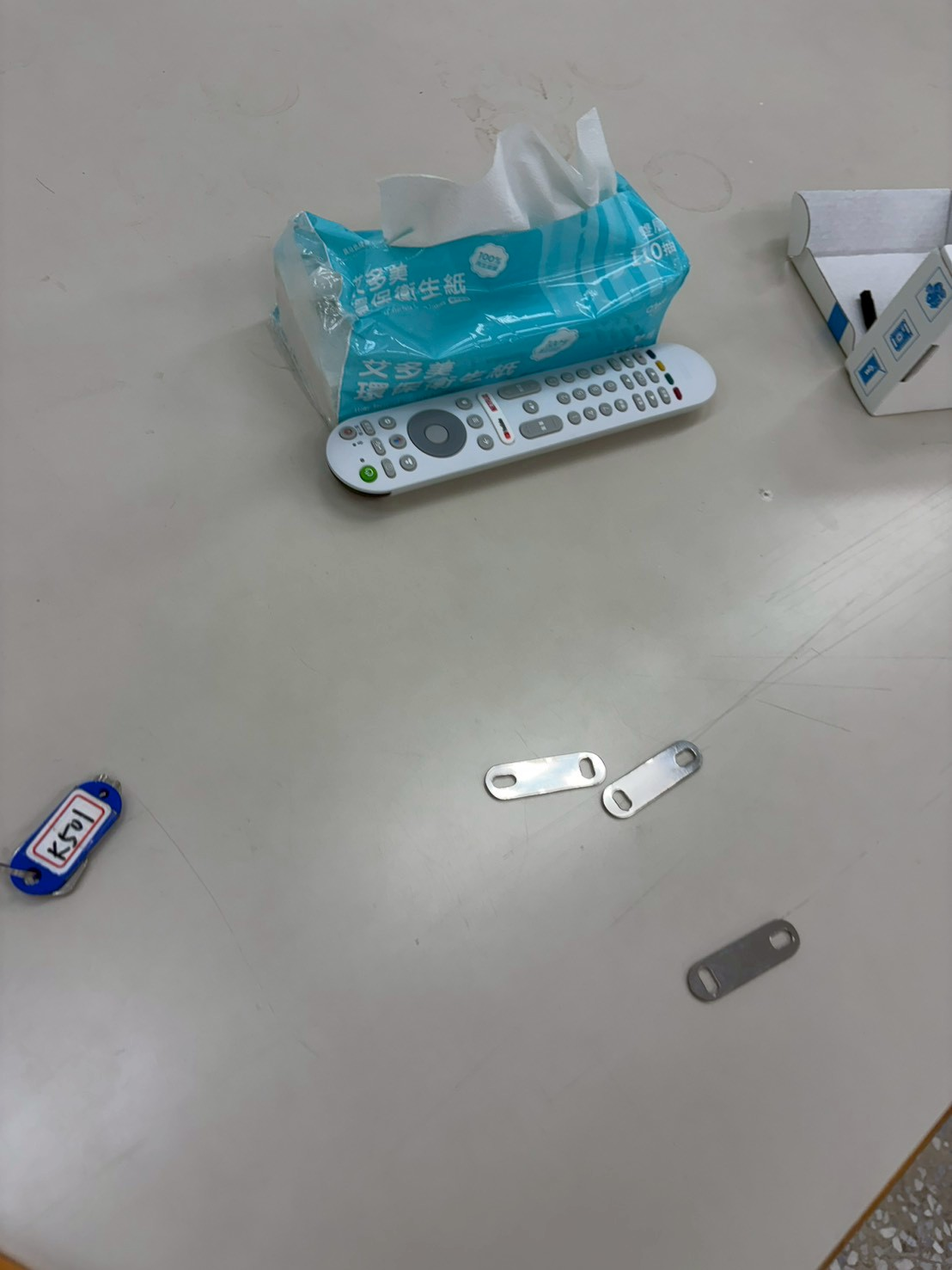Fe: (683, 918, 798, 1006), (595, 737, 704, 818), (480, 744, 602, 802)
